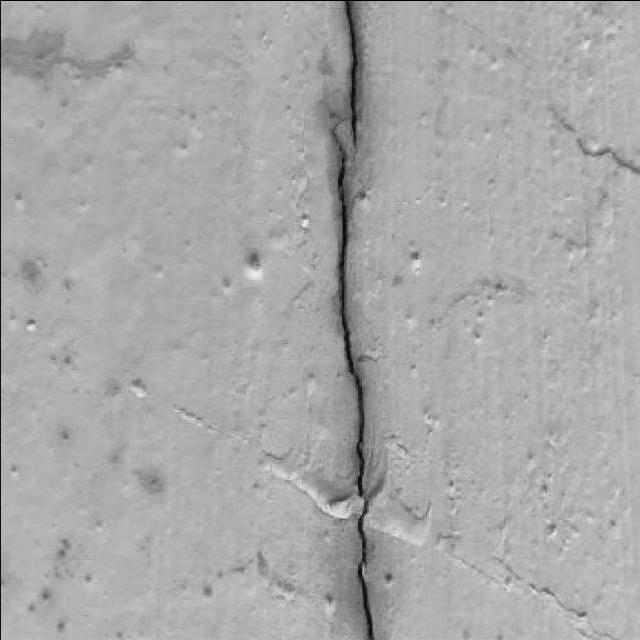crack: (551, 106, 639, 184), (8, 33, 139, 82), (336, 0, 366, 189), (332, 104, 353, 296)
